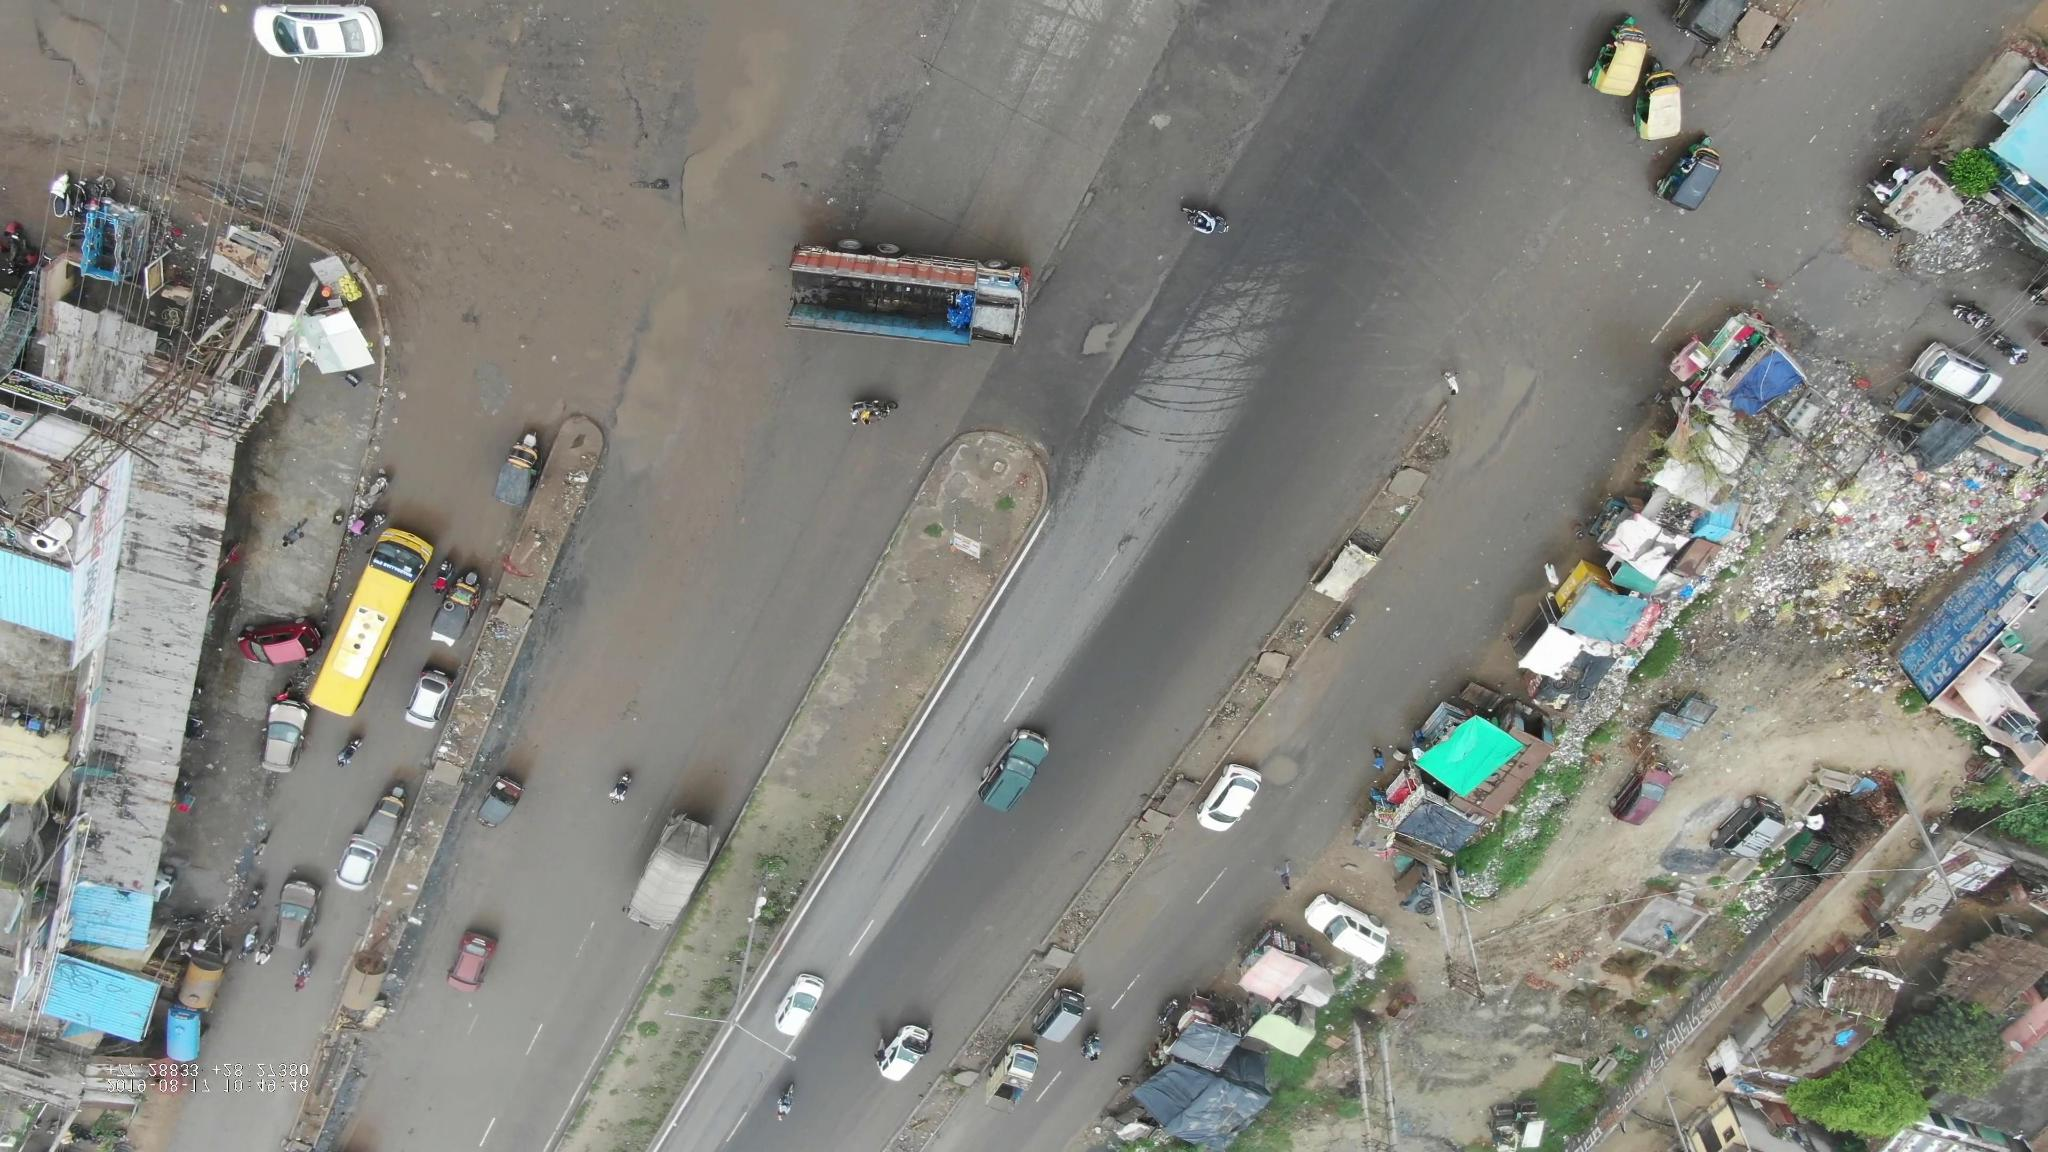Road_side_garbage: (1715, 470, 2023, 650)
